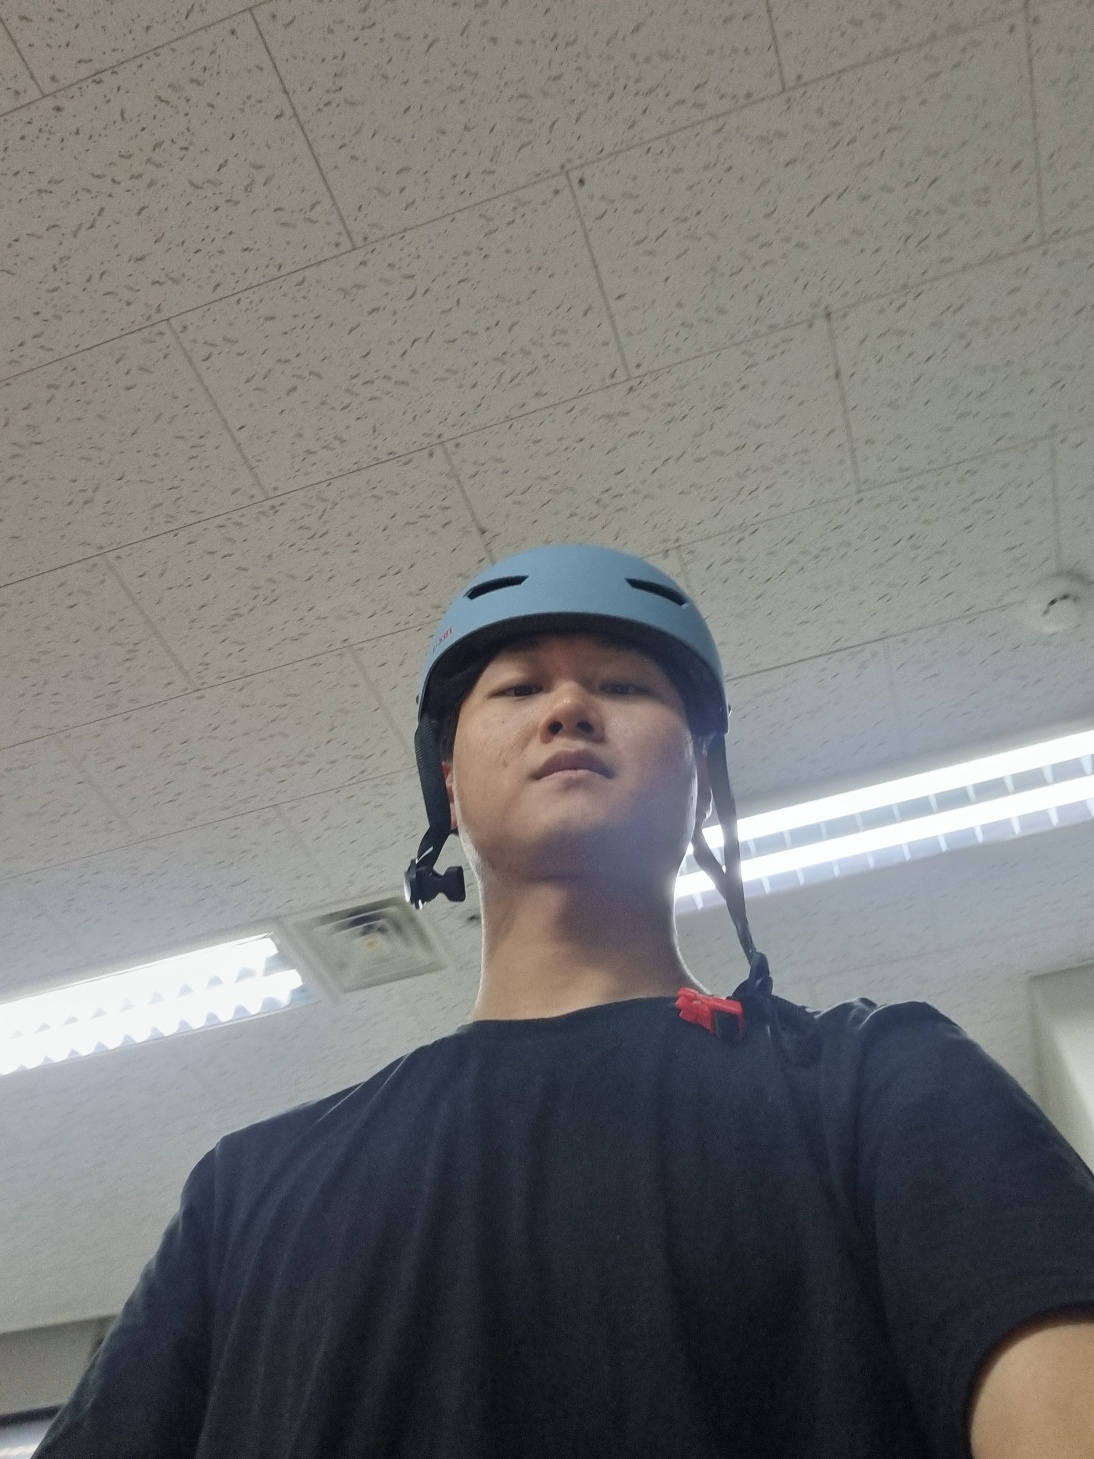Helmet: (367, 507, 810, 943)
